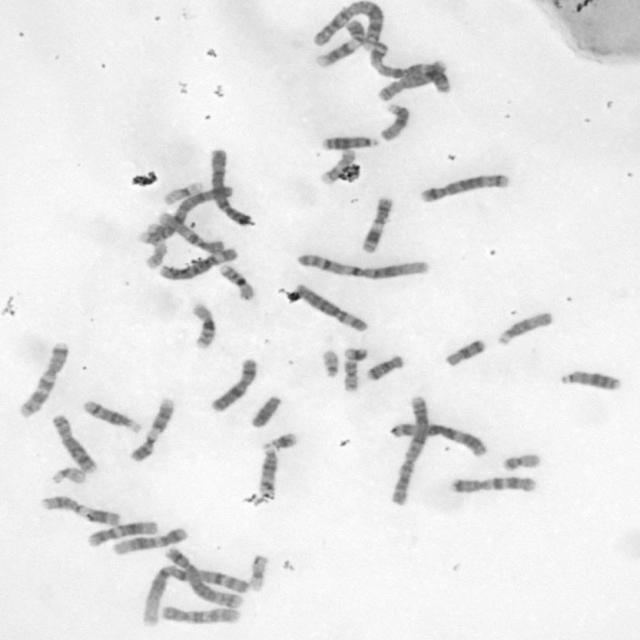A1: (141, 562, 252, 628), (292, 250, 433, 281)
A2: (386, 387, 435, 507), (309, 0, 388, 50)
A3: (365, 39, 453, 94), (386, 419, 493, 458)
B4: (138, 181, 237, 244), (206, 144, 256, 228)
B5: (161, 544, 245, 610), (416, 170, 512, 203)
C10: (154, 209, 228, 254), (158, 604, 242, 624)
C11: (38, 492, 122, 526), (358, 193, 394, 254)
C12: (109, 524, 190, 555), (83, 516, 160, 548)
C6: (290, 280, 370, 333), (156, 244, 240, 282)
C7: (15, 338, 70, 418), (446, 472, 540, 494)
C8: (374, 57, 451, 103), (49, 410, 99, 474)
C9: (127, 395, 176, 463), (312, 18, 366, 69)
D13: (556, 367, 623, 392), (319, 132, 381, 152)
D14: (79, 397, 143, 434), (256, 439, 279, 502)
D15: (493, 308, 554, 347), (376, 100, 412, 143)
E16: (187, 299, 218, 350), (217, 262, 256, 300)
E17: (318, 148, 356, 186), (141, 220, 167, 270)
E18: (442, 336, 487, 368), (364, 352, 406, 382)
F19: (160, 178, 206, 205), (246, 550, 271, 594)
F20: (499, 450, 544, 472), (340, 355, 361, 393)
G21: (262, 428, 300, 452), (340, 344, 370, 362)
G22: (48, 464, 88, 486), (317, 345, 342, 379)
X: (207, 354, 260, 414)
Y: (248, 391, 284, 429)
